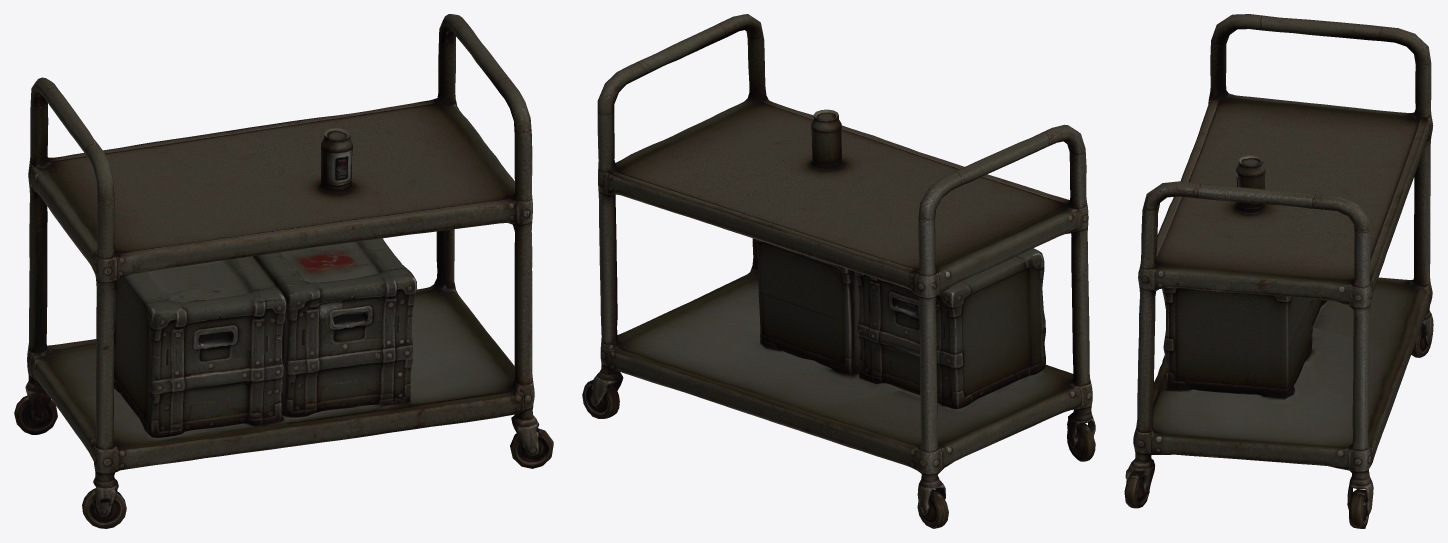
File: industrial+cart+3d+model.glb
3 views of the same model, side by side, from view 1: azimuth 30°, elevation 25°; view 2: azimuth 150°, elevation 25°; view 3: azimuth 270°, elevation 25° (orthographic). The views are drawn at different scales.
Parts seen in each view (by area): view 1: tripo_node_27a3d12b-6368-4894-9b0c-84d9ace5c915; view 2: tripo_node_27a3d12b-6368-4894-9b0c-84d9ace5c915; view 3: tripo_node_27a3d12b-6368-4894-9b0c-84d9ace5c915.
Part boxes in pixels (bbox=[...]): tripo_node_27a3d12b-6368-4894-9b0c-84d9ace5c915: bbox=[14, 14, 553, 528]; tripo_node_27a3d12b-6368-4894-9b0c-84d9ace5c915: bbox=[582, 14, 1095, 528]; tripo_node_27a3d12b-6368-4894-9b0c-84d9ace5c915: bbox=[1124, 14, 1433, 528].
Size of the model in its own units: 0.9727 by 0.7246 by 0.6179.
1 material, 1 textured.
